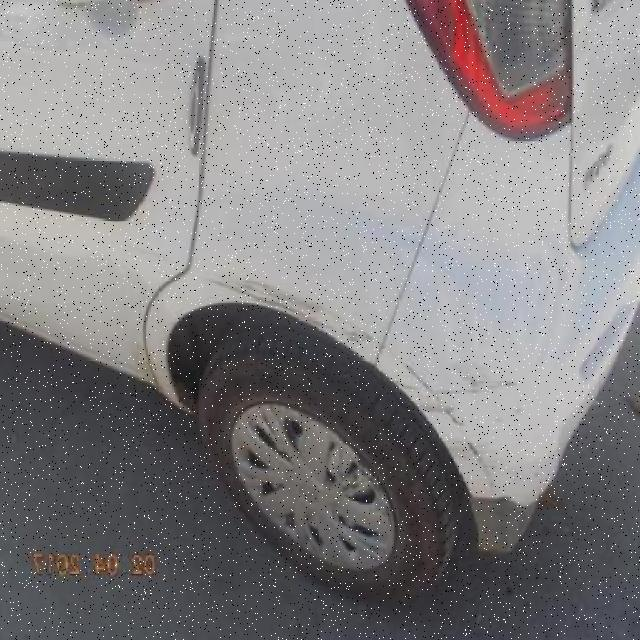damage: (205, 274, 379, 348), (402, 360, 462, 432), (443, 357, 518, 397), (127, 341, 161, 392), (467, 434, 493, 482)
